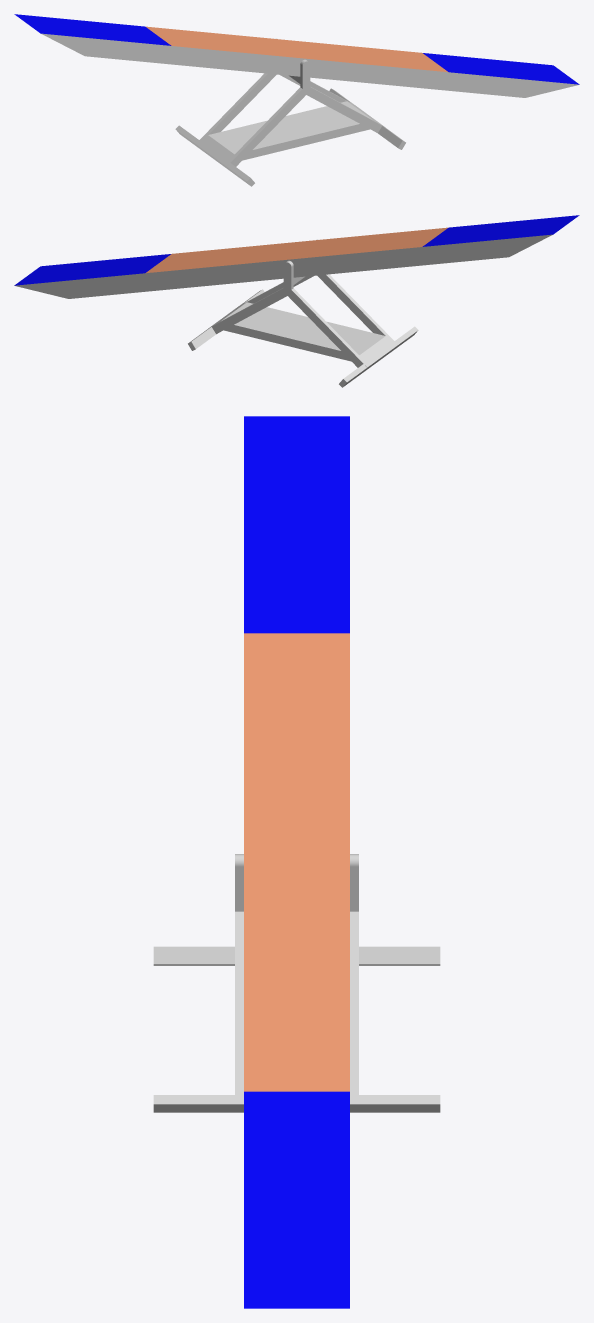
Rendered from seesaw.fbx.
3 renders of one model, top to bottom at view 1: azimuth 30°, elevation 25°; view 2: azimuth 150°, elevation 25°; view 3: azimuth 270°, elevation 25°, orthographic. The views are drawn at different scales.
Parts seen in each view (by area): view 1: Part 1; view 2: Part 1; view 3: Part 1.
Boxes of the visible parts, x1,y1,x2,y2 form: Part 1: (14,14,579,186); Part 1: (14,215,579,387); Part 1: (153,416,440,1308).
Size of the model in its own units: 352 by 114 by 81.
